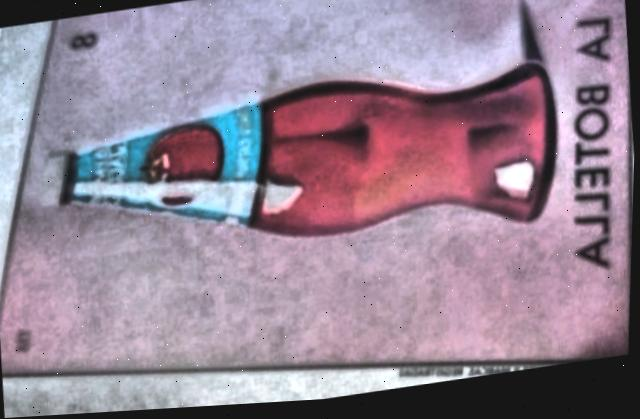La Botella: (1, 0, 633, 376)
